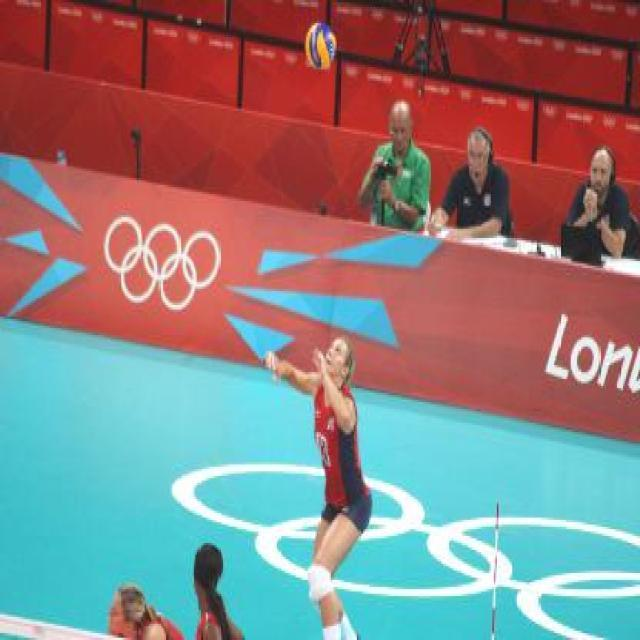volleyball: (306, 22, 337, 69)
